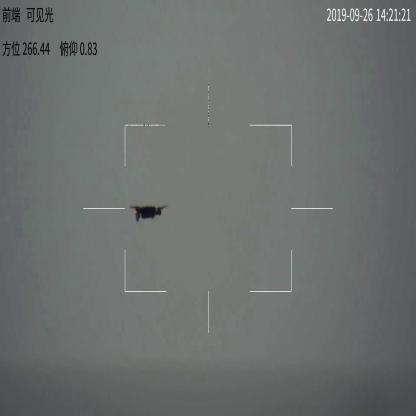uav: (126, 200, 168, 224)
